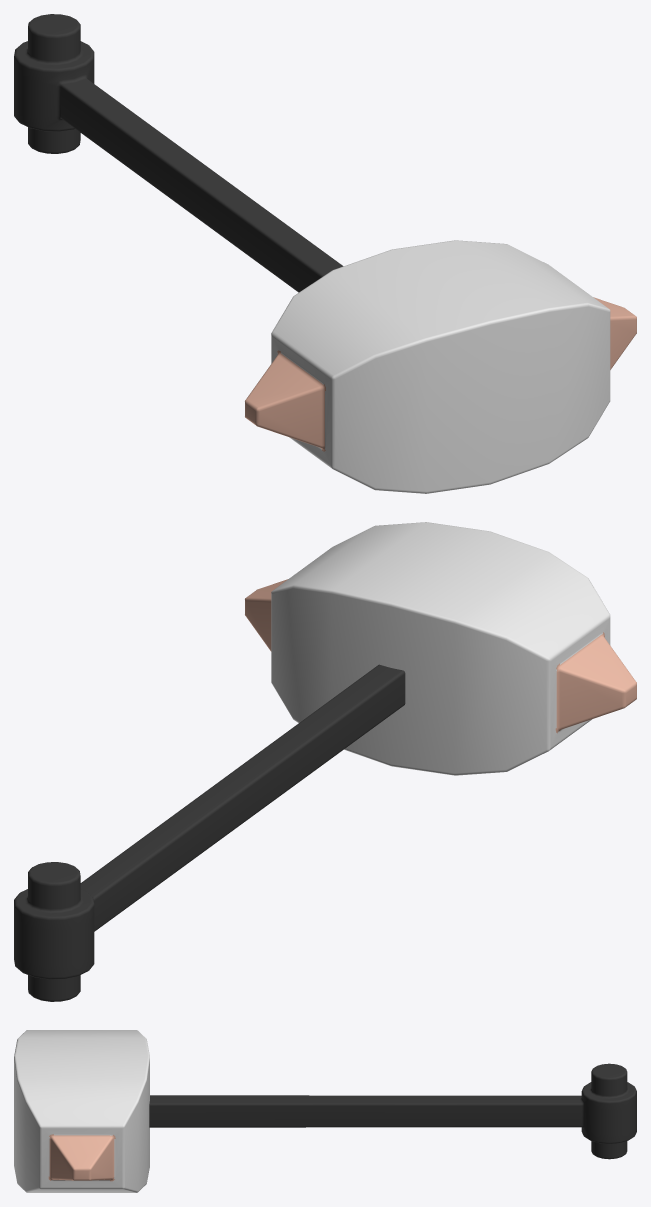
Rendered from Stickhammer.fbx.
The picture shows the model from 3 angles, top to bottom: view 1: azimuth 30°, elevation 25°; view 2: azimuth 150°, elevation 25°; view 3: azimuth 270°, elevation 25°; orthographic projection. The views are drawn at different scales.
Parts seen in each view (by area): view 1: Cylinder.032; view 2: Cylinder.032; view 3: Cylinder.032.
Part boxes in pixels (<box>): Cylinder.032: <box>14,14,636,493</box>; Cylinder.032: <box>14,522,636,1001</box>; Cylinder.032: <box>14,1030,636,1192</box>.
Size of the model in its own units: 2.25 by 0.9207 by 4.67.
